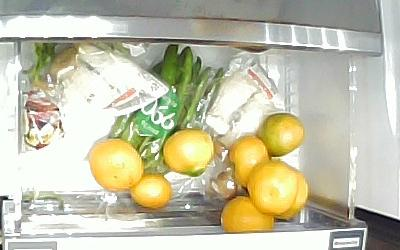tangerine: (244, 160, 300, 214), (89, 139, 142, 192), (163, 130, 214, 176), (228, 136, 272, 188), (218, 196, 275, 234), (258, 112, 305, 157), (275, 167, 309, 221), (130, 174, 171, 208)
